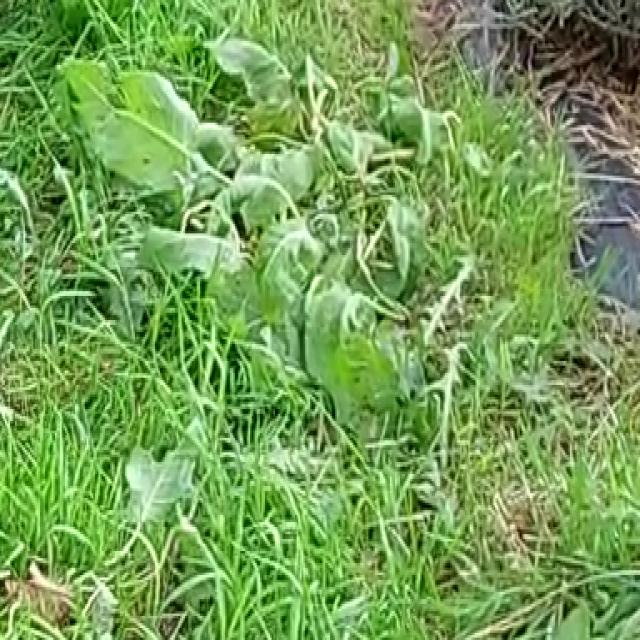organic waste: (56, 5, 362, 310), (178, 109, 452, 428)
